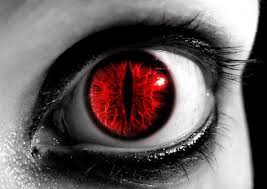e.other: (88, 51, 175, 138)
